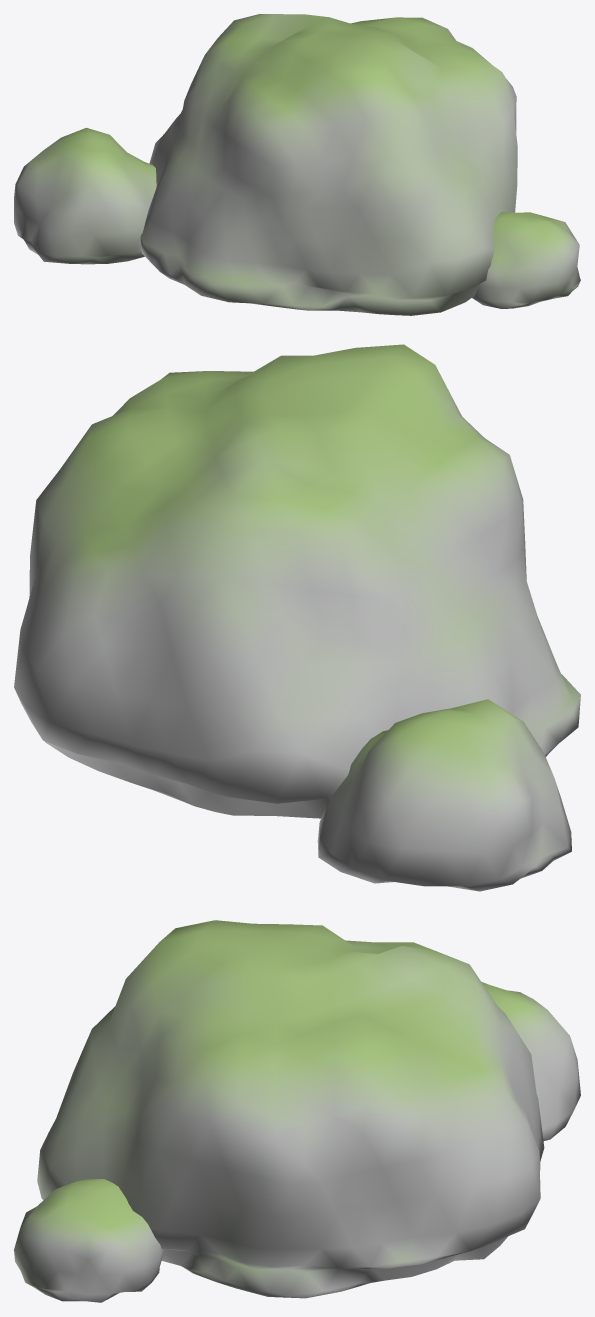
The model's file is moss_rocks.glb.
3 views of the same model, one above another, from view 1: azimuth 30°, elevation 25°; view 2: azimuth 150°, elevation 25°; view 3: azimuth 270°, elevation 25° (orthographic). The views are drawn at different scales.
Visible parts, largest first — view 1: isl_moss_rocks; view 2: isl_moss_rocks; view 3: isl_moss_rocks.
Boxes of the visible parts, <box> form: isl_moss_rocks: <box>14,14,580,315</box>; isl_moss_rocks: <box>14,344,580,891</box>; isl_moss_rocks: <box>14,920,580,1302</box>.
Bounding box in the file's own units: 2.02 × 1.05 × 1.99.
